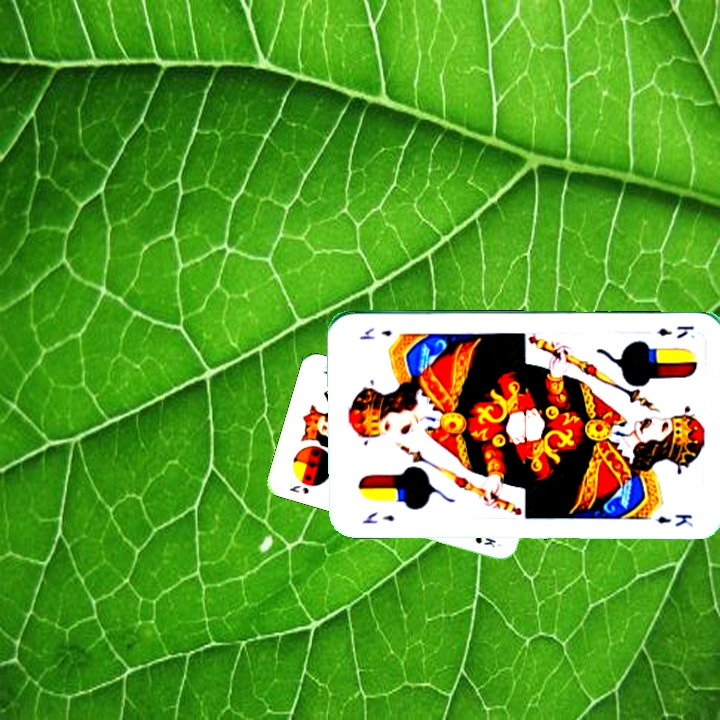EK: (654, 321, 697, 341), (358, 508, 397, 526)
SK: (285, 481, 312, 496)
